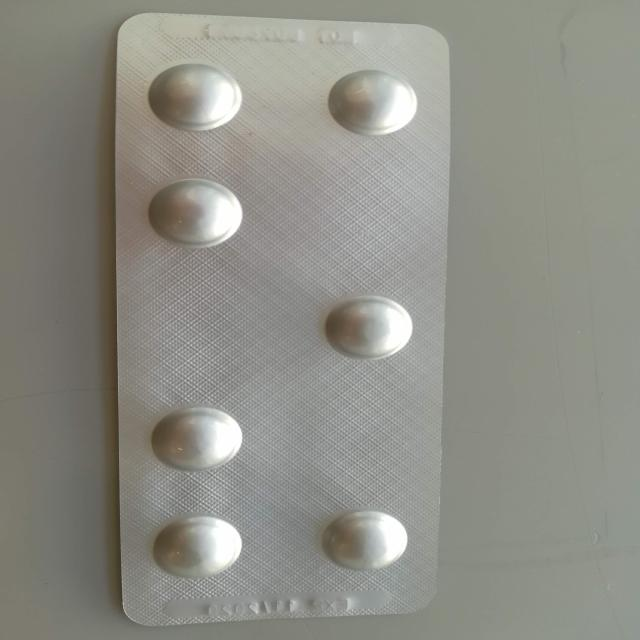Pill: (140, 173, 250, 254), (143, 59, 251, 136), (319, 65, 425, 141), (141, 402, 248, 476), (316, 291, 421, 366), (316, 502, 415, 578), (148, 511, 246, 583)
